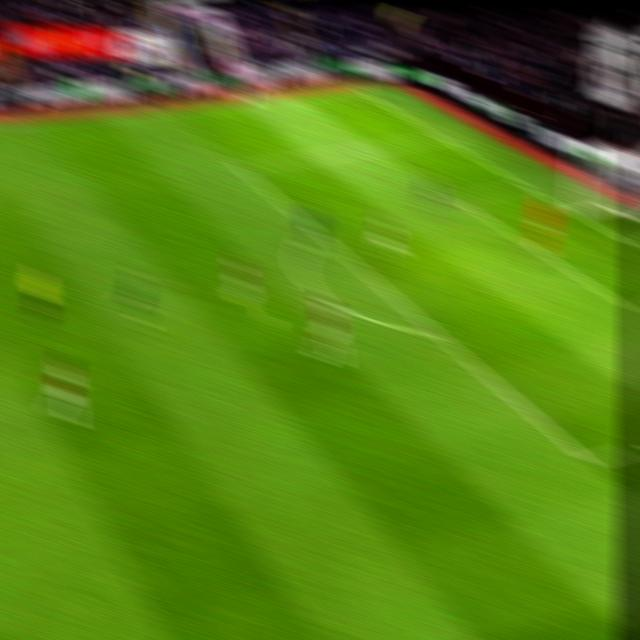bigarea_bottom_inner: (572, 445, 606, 478)
bigarea_top_inner: (228, 153, 257, 184)
bigarea_top_outter: (428, 129, 454, 147)
bottom_arc_area_intersection: (423, 316, 454, 352)
corner: (345, 84, 368, 97)
smallarea_top_inner: (445, 187, 469, 211)
smallarea_top_outter: (513, 175, 536, 198)
